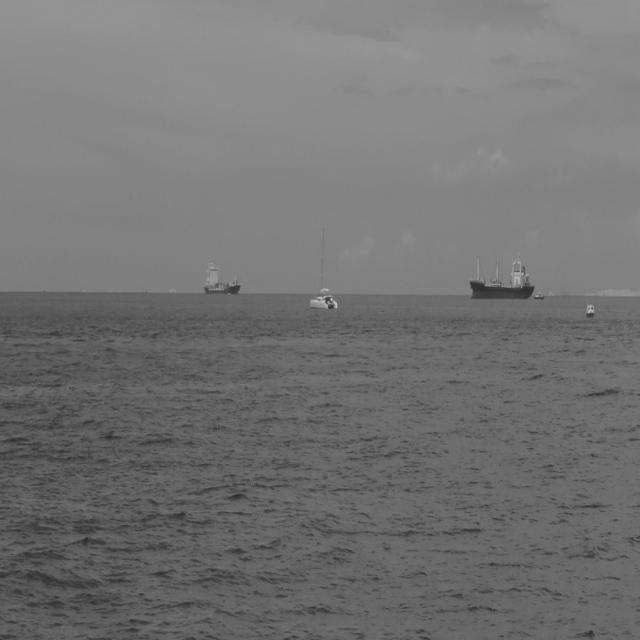ship: (467, 250, 536, 302), (308, 222, 339, 312), (202, 260, 242, 298), (584, 300, 596, 320), (533, 290, 545, 300)
